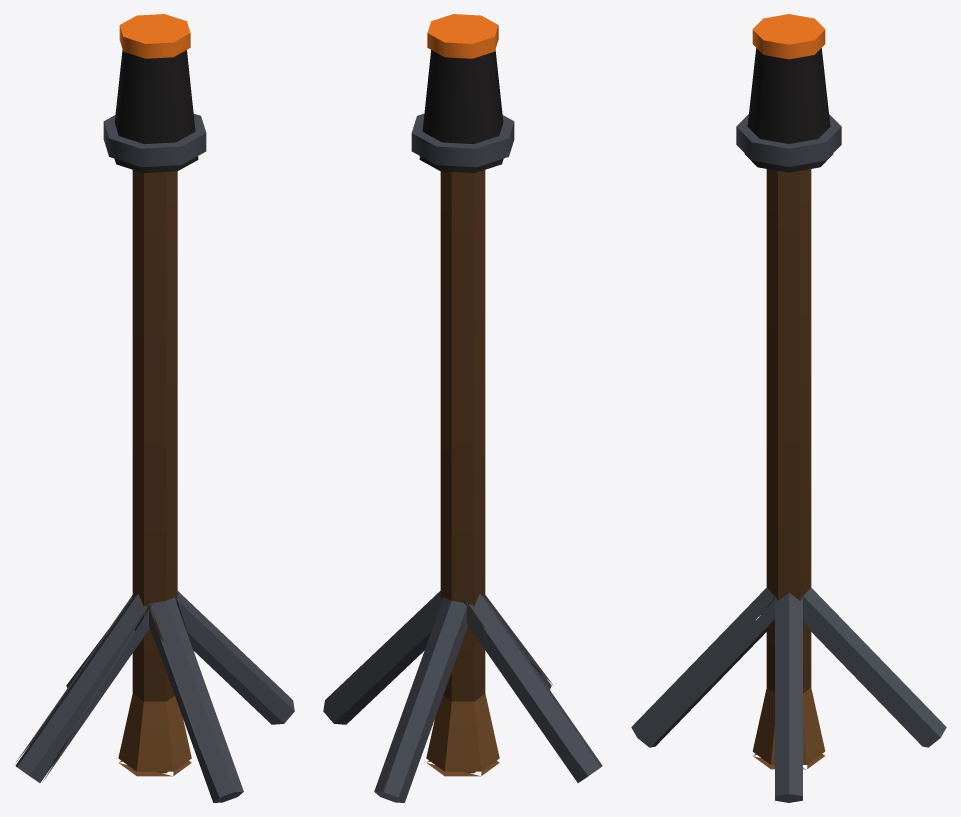
Rendered from torch_stand.glb.
3 renders of one model, left to right at view 1: azimuth 30°, elevation 25°; view 2: azimuth 150°, elevation 25°; view 3: azimuth 270°, elevation 25°, orthographic.
Parts seen in each view (by area): view 1: torch_stand, torch_stand_craft; view 2: torch_stand, torch_stand_craft; view 3: torch_stand, torch_stand_craft.
Boxes of the visible parts, <box> form: torch_stand: <box>103,14,206,776</box>; torch_stand_craft: <box>15,591,294,802</box>; torch_stand: <box>411,14,514,776</box>; torch_stand_craft: <box>323,591,602,802</box>; torch_stand: <box>736,14,841,769</box>; torch_stand_craft: <box>631,587,946,802</box>.
Size of the model in its own units: 0.7801 by 1.99 by 0.7801.
